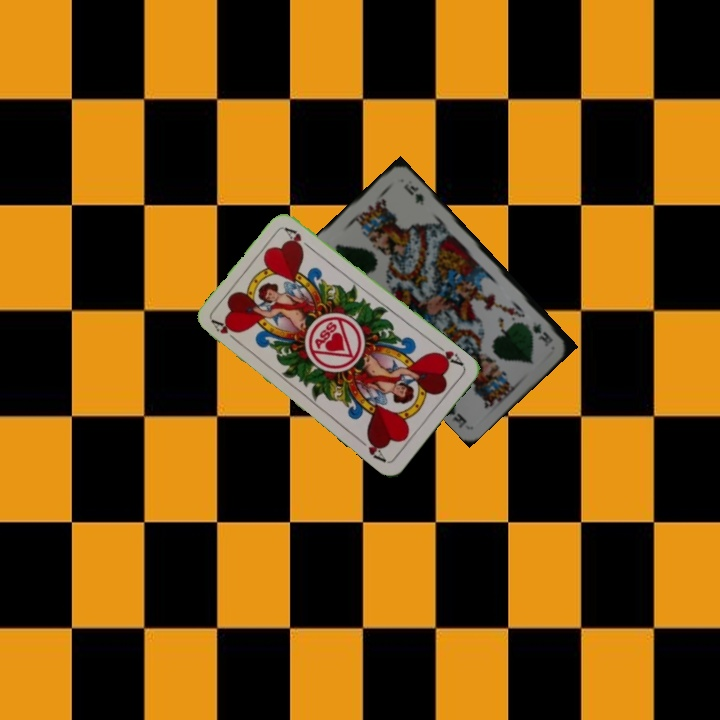GK: (529, 318, 555, 347)
HA: (208, 316, 243, 347), (429, 340, 466, 369)
